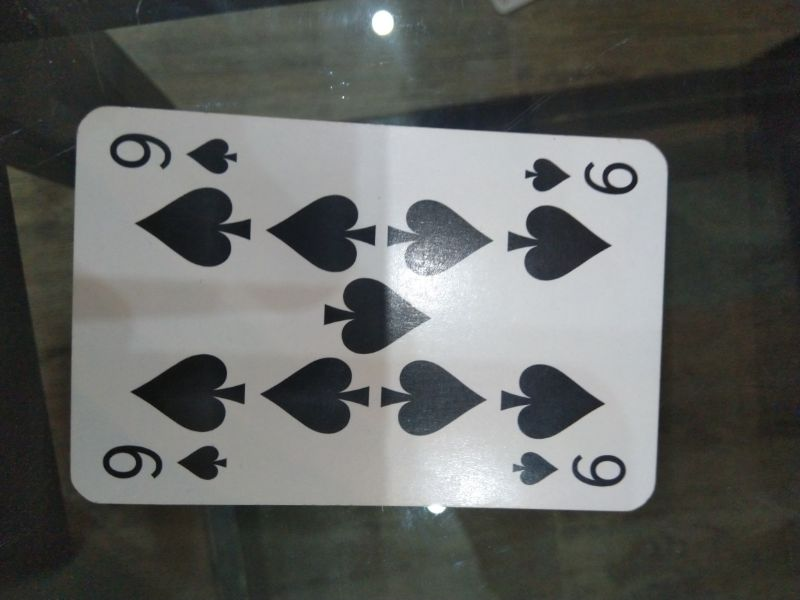9s: (97, 435, 237, 489), (107, 129, 243, 179), (505, 444, 633, 493), (520, 153, 643, 199)
